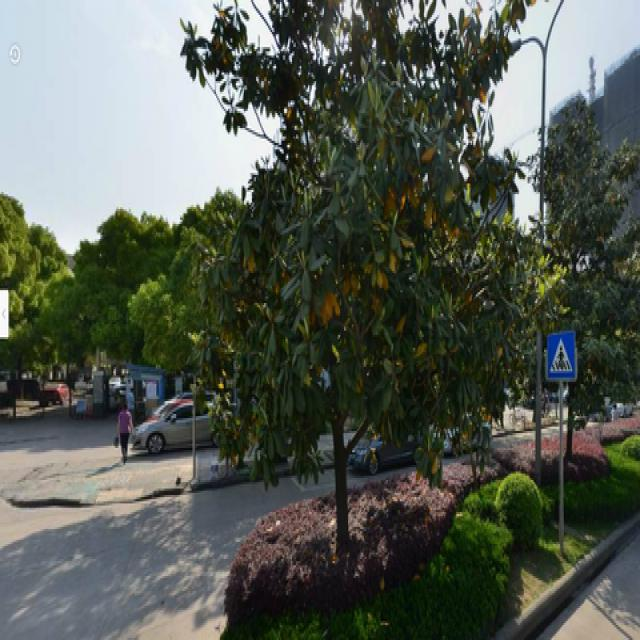magn: (194, 6, 514, 510)
